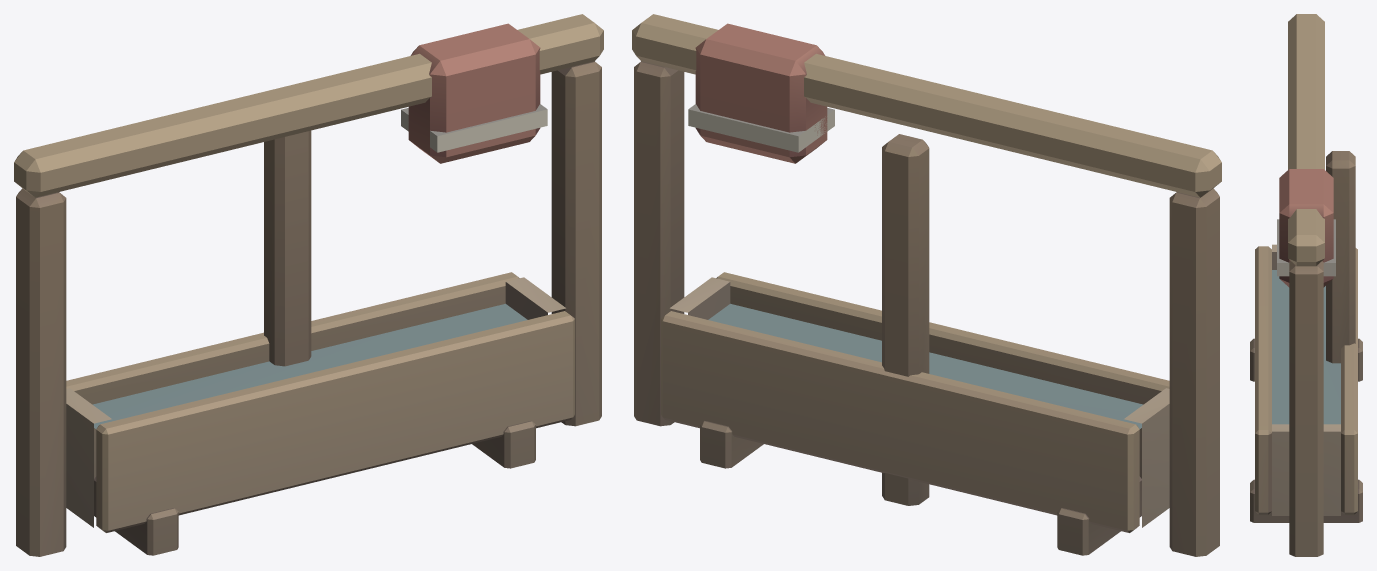
The model's file is bench.glb.
3 views of the same model, side by side, from view 1: azimuth 30°, elevation 25°; view 2: azimuth 150°, elevation 25°; view 3: azimuth 270°, elevation 25° (orthographic). The views are drawn at different scales.
Size of the model in its own units: 2.2 by 1.46 by 0.46.
